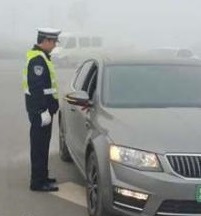person: (22, 24, 69, 191)
